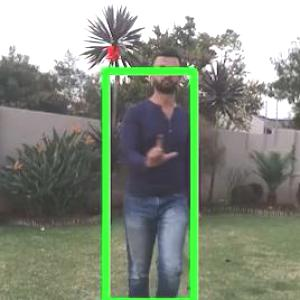land_hand: (139, 126, 179, 174)
